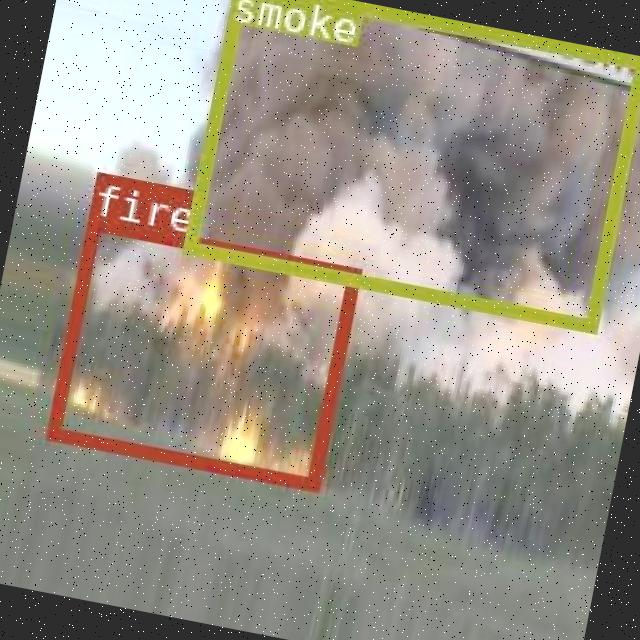fire: (44, 216, 358, 490)
smoke: (182, 0, 640, 331)
